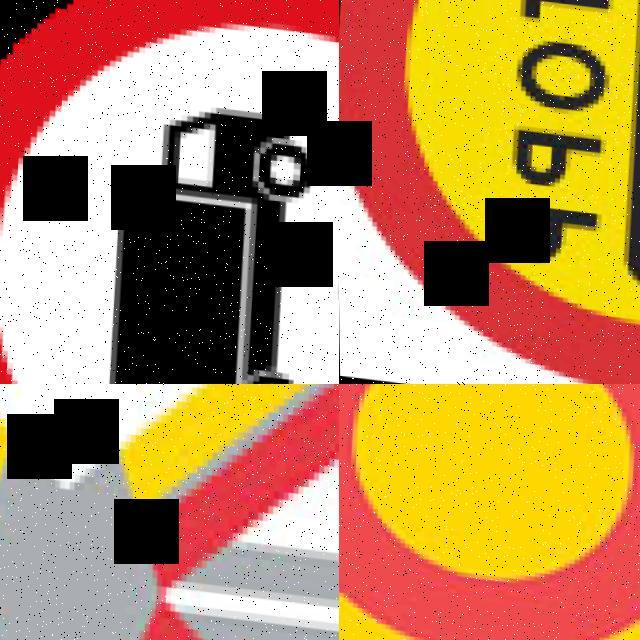116: (339, 0, 640, 384)
62: (0, 384, 339, 640)
82: (339, 384, 640, 640)
length limit-10m: (0, 0, 339, 384)
